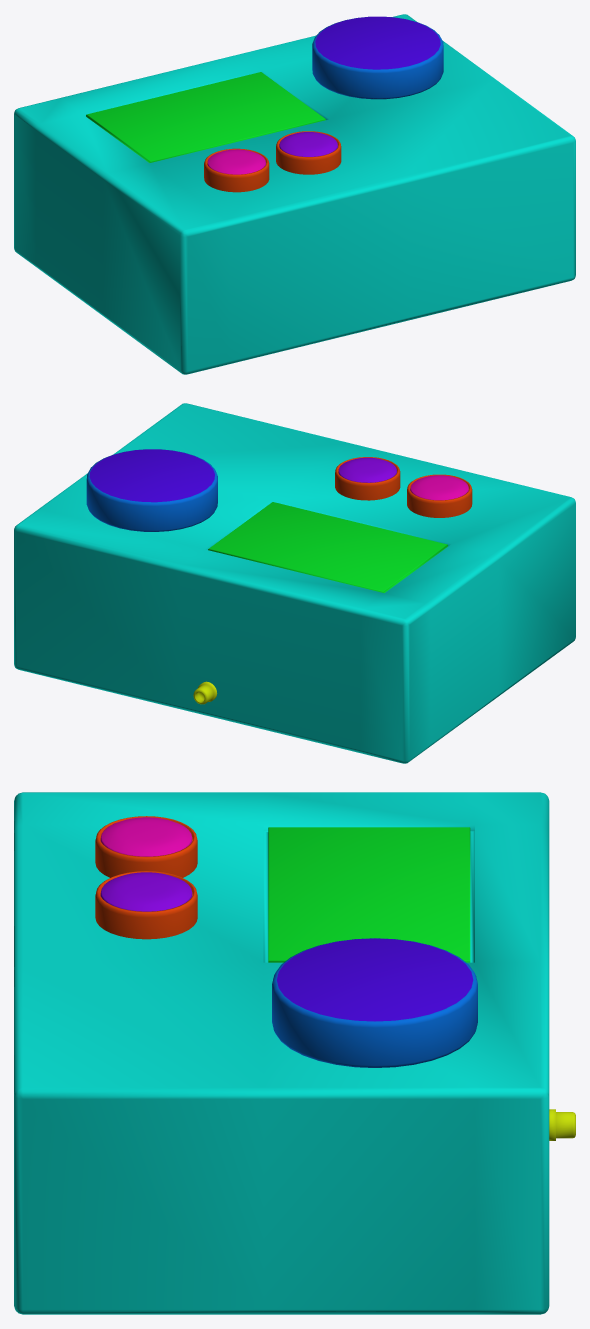
Rendered from RPMControlBox.fbx.
The picture shows the model from 3 angles, top to bottom: view 1: azimuth 30°, elevation 25°; view 2: azimuth 150°, elevation 25°; view 3: azimuth 270°, elevation 25°; orthographic projection. The views are drawn at different scales.
Visible parts, largest first — view 1: ControlBox, ControlBox_Knob; view 2: ControlBox, ControlBox_Knob; view 3: ControlBox, ControlBox_Knob.
Boxes of the visible parts, x1=… form: ControlBox: x1=14, y1=14, x2=575, y2=374; ControlBox_Knob: x1=312, y1=16, x2=443, y2=99; ControlBox: x1=14, y1=403, x2=575, y2=763; ControlBox_Knob: x1=86, y1=449, x2=217, y2=531; ControlBox: x1=14, y1=792, x2=575, y2=1314; ControlBox_Knob: x1=272, y1=938, x2=477, y2=1067.
Size of the model in its own units: 0.2 by 0.0844 by 0.1574.
